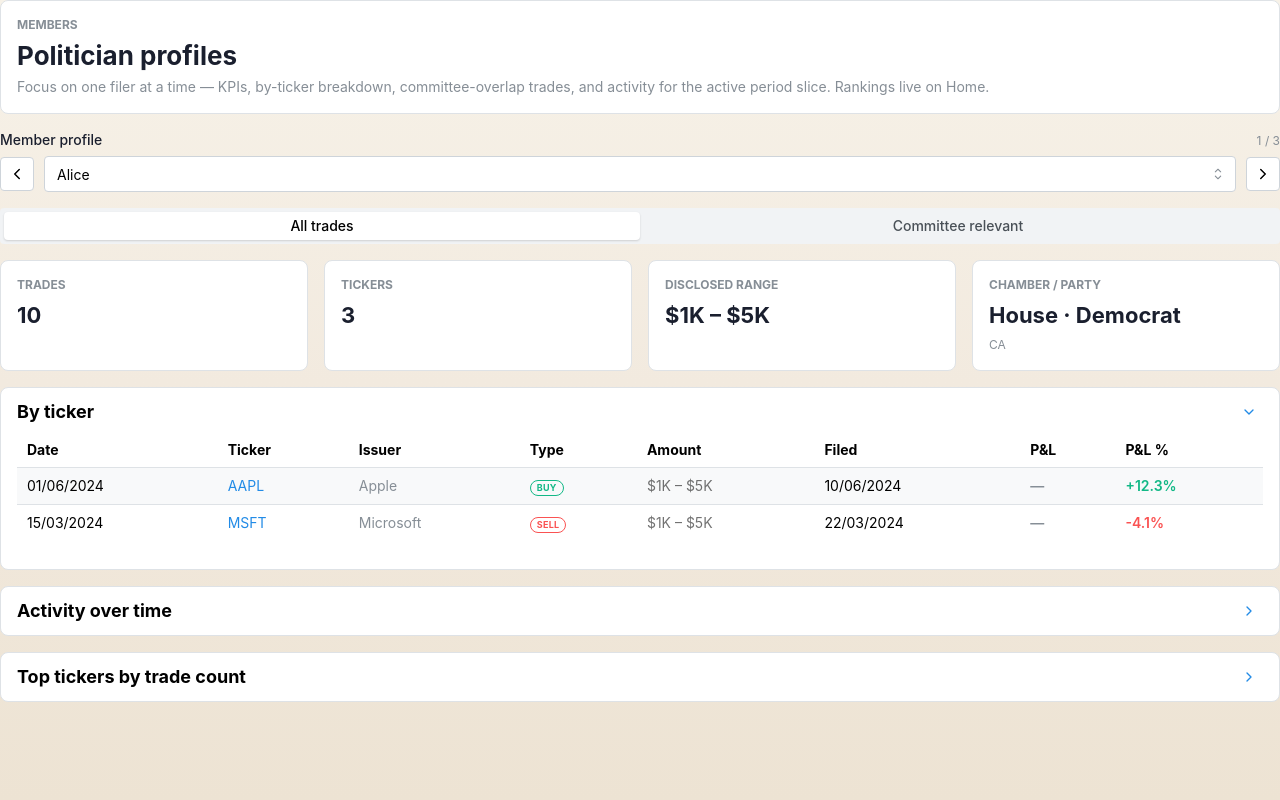
Test case: Members route › toggles committee view pill
expect the element with test id "members-trade-view" is shown: met, box [0,208,1279,244]
Click the text "Committee relevant" at point(958, 226), box [893,218,1023,234]
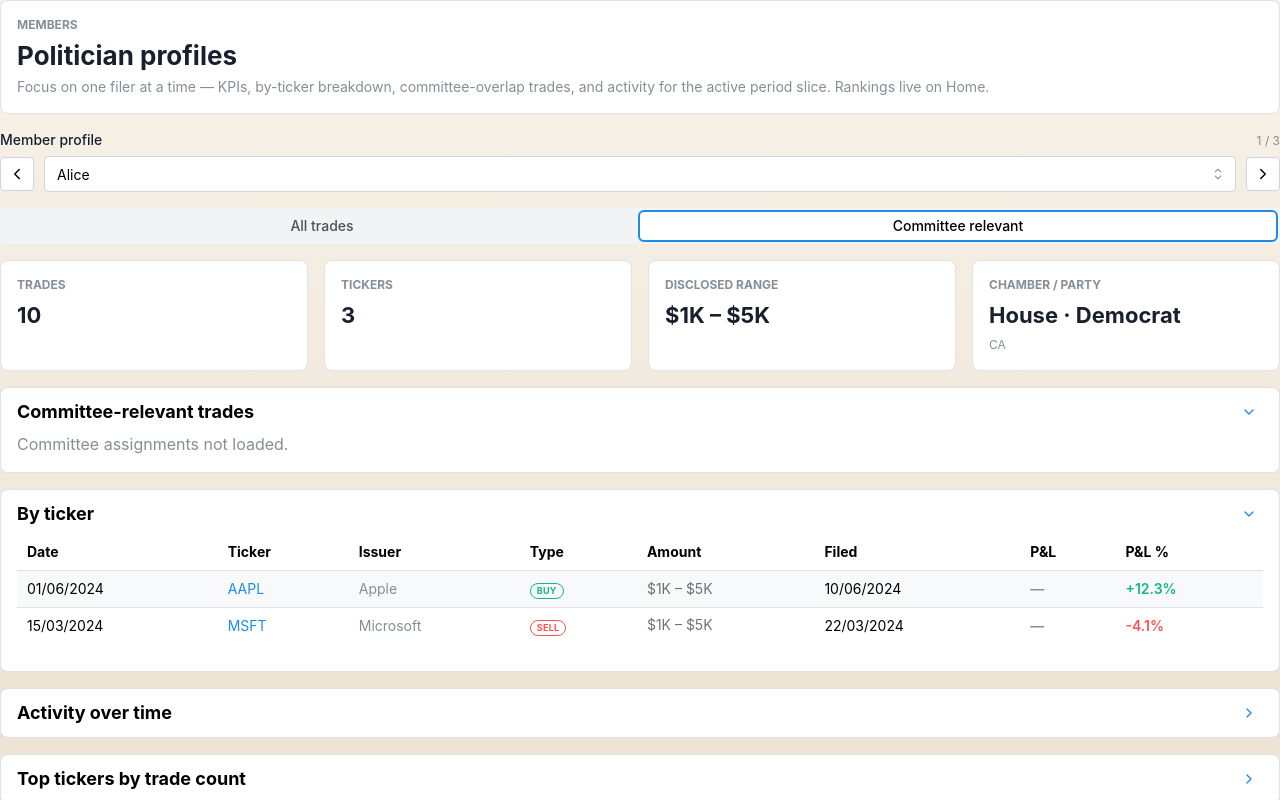
expect the element with test id "members-committee-card" is shown: met, box [0,387,1279,473]
